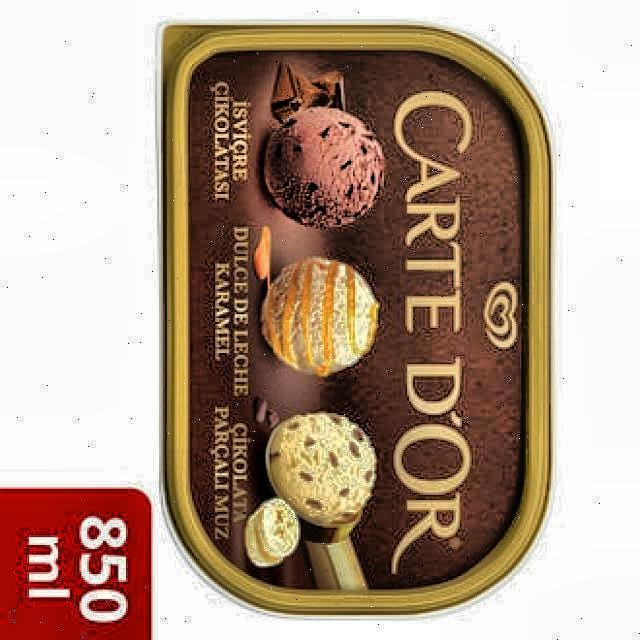plastic: (162, 26, 550, 614)
